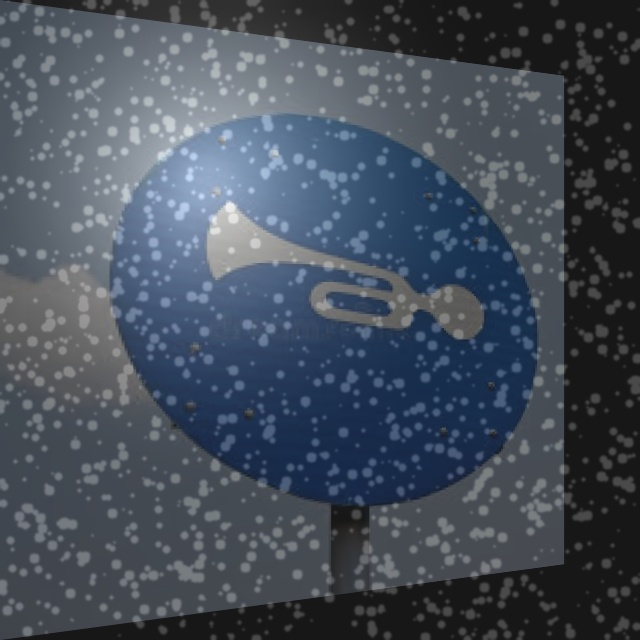Compulsory_Sound_Horn: (119, 95, 532, 517)
